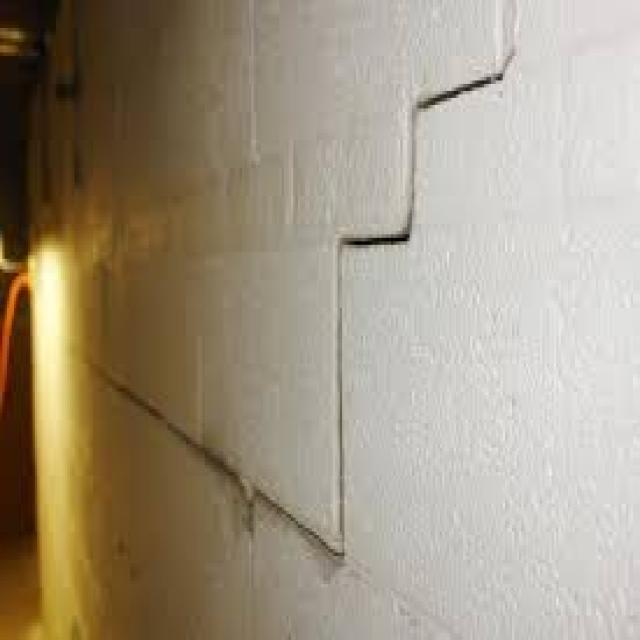Crack: (102, 0, 517, 581)
